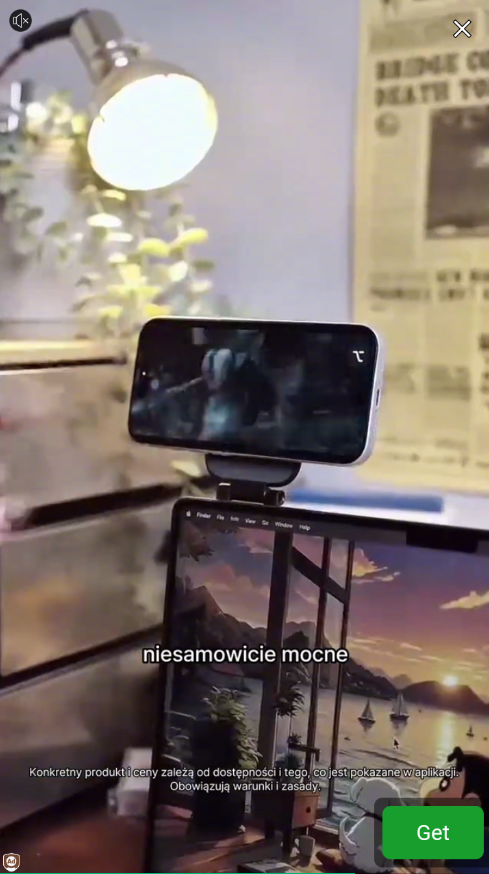close_button: (446, 16, 475, 43)
